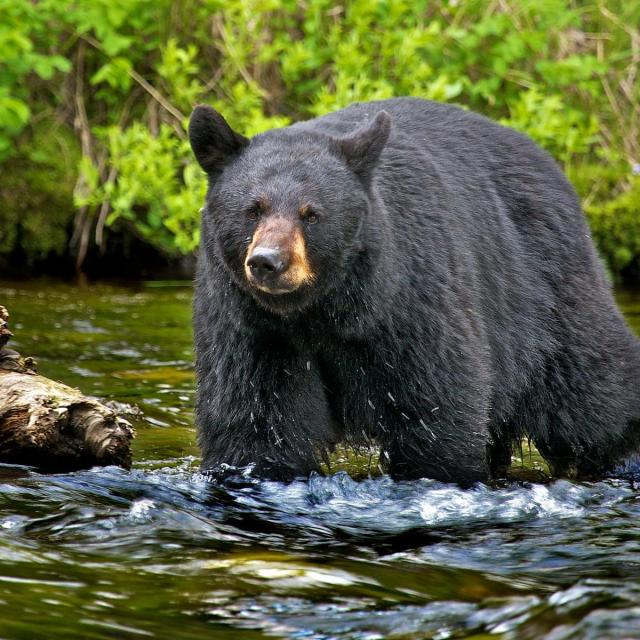Bear: (187, 98, 640, 492)
